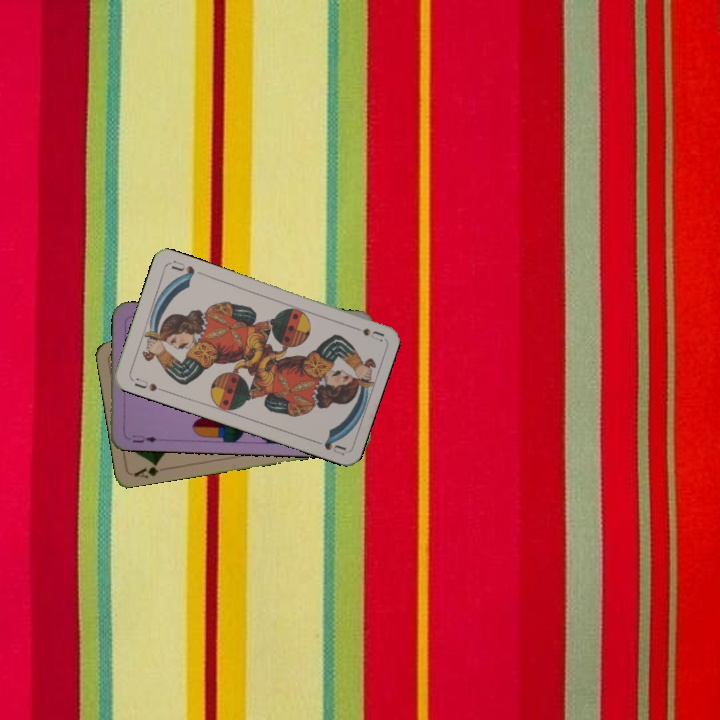EU: (129, 431, 159, 445)
GA: (130, 458, 161, 480)
SU: (345, 321, 385, 344), (130, 374, 167, 394)
